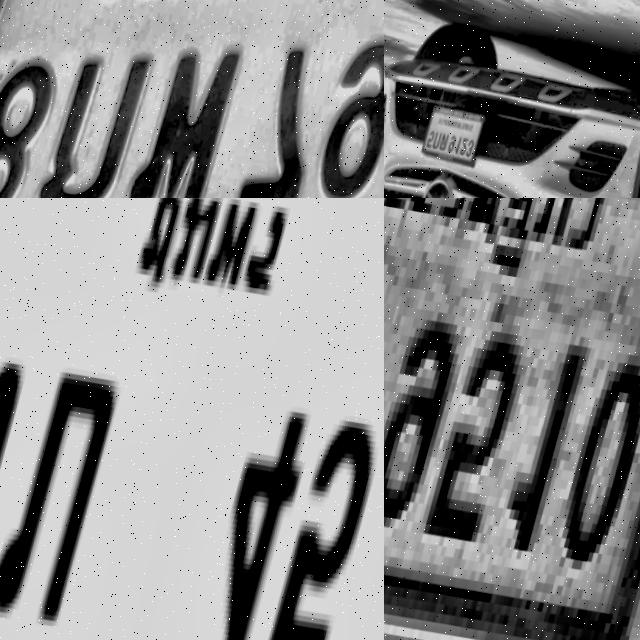license-plate: (0, 198, 384, 640), (384, 198, 640, 640), (0, 0, 384, 198), (423, 103, 493, 171)
